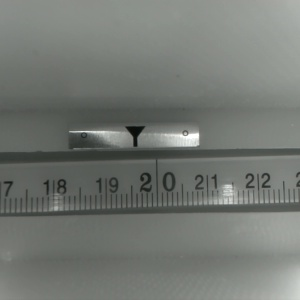0: (162, 172, 175, 192)
1: (42, 180, 49, 195), (211, 175, 217, 190), (95, 177, 101, 192)
2: (139, 172, 152, 192), (244, 173, 254, 188), (260, 173, 270, 188), (194, 174, 203, 190), (295, 171, 300, 187)
7: (2, 180, 12, 196)
8: (56, 179, 66, 194)
9: (108, 177, 118, 193)
finger: (122, 126, 146, 146)
